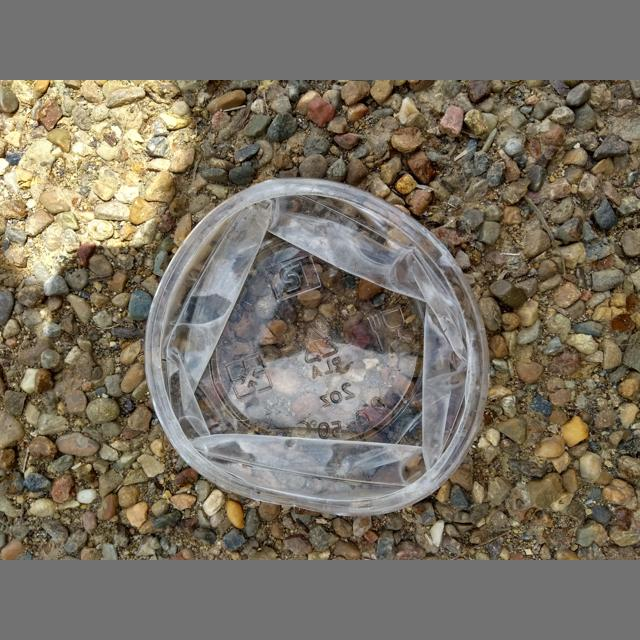litter: (145, 177, 490, 516)
